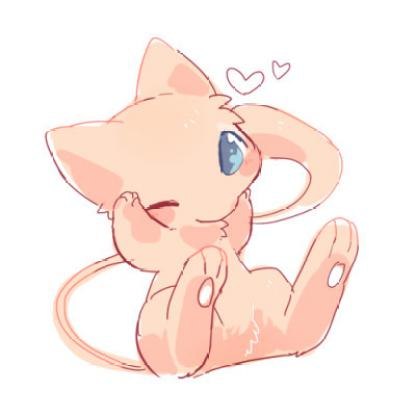Mew: (33, 32, 366, 398)
